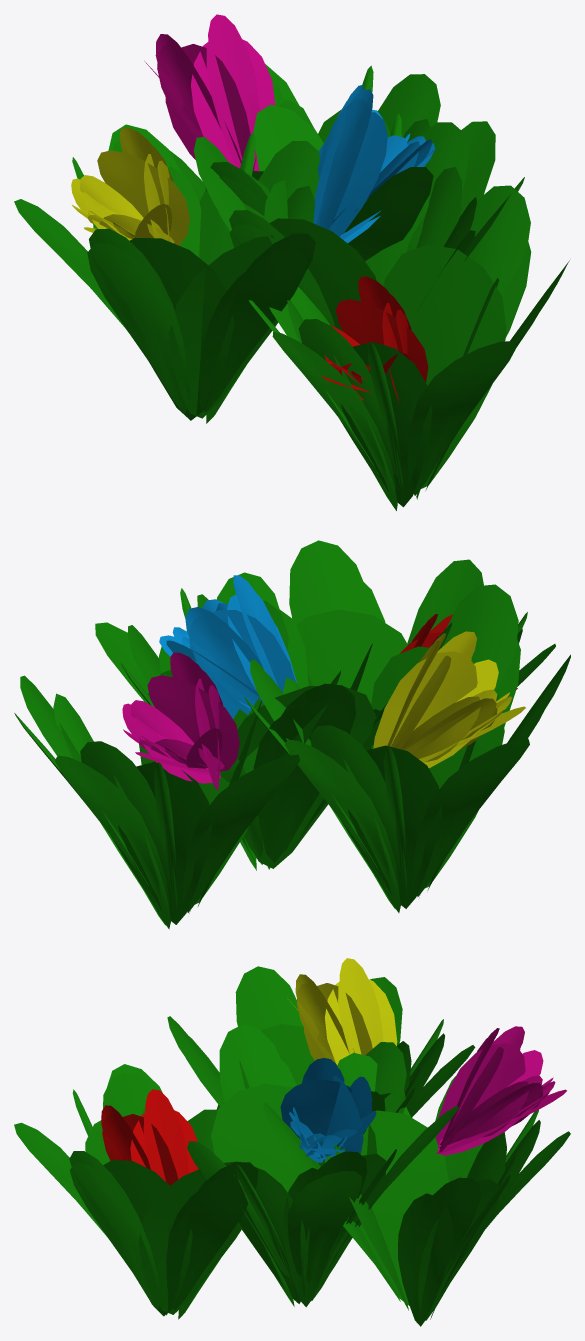
File: FlowerBed.obj
The picture shows the model from 3 angles, top to bottom: view 1: azimuth 30°, elevation 25°; view 2: azimuth 150°, elevation 25°; view 3: azimuth 270°, elevation 25°; orthographic projection. The views are drawn at different scales.
Parts seen in each view (by area): view 1: cone1_copy7, cone1_copy9, cone1_copy8, cone1_copy6, cone1_copy5, cone1_copy12, cone1_copy10, cone1_copy11; view 2: cone1_copy9, cone1_copy5, cone1_copy8, cone1_copy7, cone1_copy10, cone1_copy6, cone1_copy12, cone1_copy11; view 3: cone1_copy8, cone1_copy5, cone1_copy7, cone1_copy9, cone1_copy6, cone1_copy10, cone1_copy12, cone1_copy11.
Part boxes in pixels (bbox=[...]): cone1_copy7: bbox=[248, 185, 569, 510]; cone1_copy9: bbox=[14, 124, 320, 423]; cone1_copy8: bbox=[193, 104, 524, 331]; cone1_copy6: bbox=[144, 14, 275, 171]; cone1_copy5: bbox=[169, 64, 440, 260]; cone1_copy12: bbox=[313, 85, 436, 243]; cone1_copy10: bbox=[71, 127, 189, 245]; cone1_copy11: bbox=[322, 276, 428, 403]; cone1_copy9: bbox=[244, 584, 570, 912]; cone1_copy5: bbox=[14, 600, 340, 929]; cone1_copy8: bbox=[95, 572, 451, 870]; cone1_copy7: bbox=[197, 540, 555, 749]; cone1_copy10: bbox=[373, 631, 525, 768]; cone1_copy6: bbox=[122, 652, 239, 789]; cone1_copy12: bbox=[159, 575, 296, 719]; cone1_copy11: bbox=[399, 614, 517, 689]; cone1_copy8: bbox=[187, 1024, 458, 1307]; cone1_copy5: bbox=[263, 1052, 570, 1326]; cone1_copy7: bbox=[14, 1064, 258, 1319]; cone1_copy9: bbox=[167, 966, 475, 1117]; cone1_copy6: bbox=[436, 1026, 566, 1155]; cone1_copy10: bbox=[287, 958, 397, 1065]; cone1_copy12: bbox=[280, 1058, 376, 1162]; cone1_copy11: bbox=[99, 1089, 198, 1185].
Size of the model in its own units: 0.5691 by 0.4134 by 0.7035.
